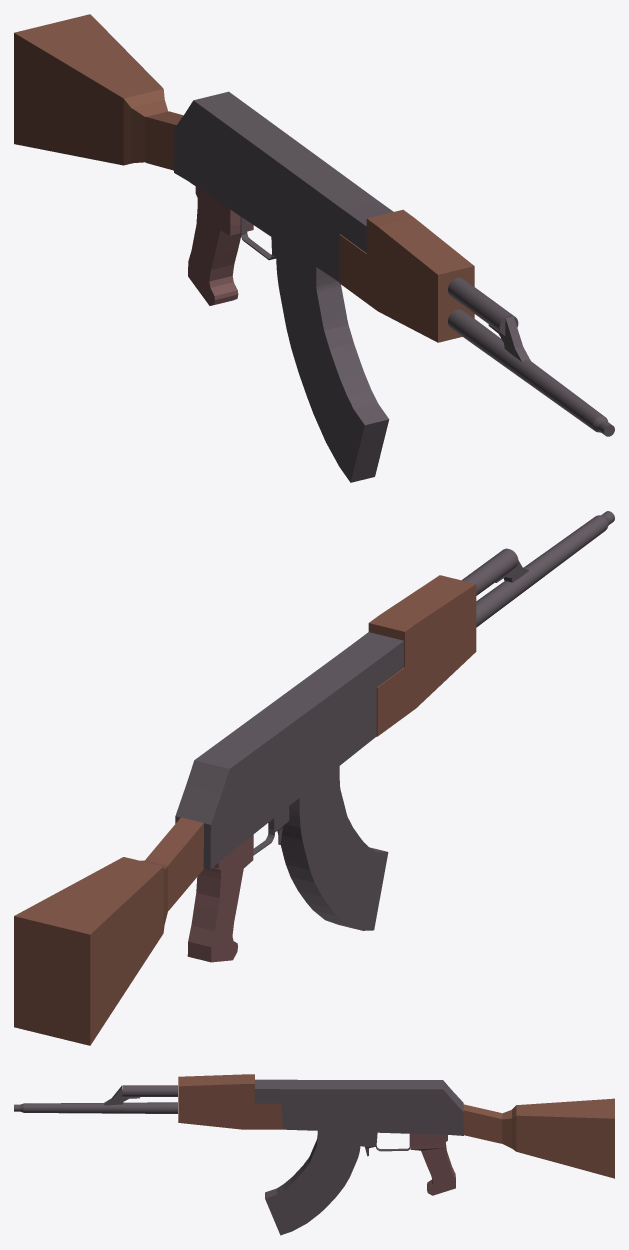
The picture shows the model from 3 angles, top to bottom: view 1: azimuth 30°, elevation 25°; view 2: azimuth 150°, elevation 25°; view 3: azimuth 270°, elevation 25°; orthographic projection. The views are drawn at different scales.
Visible parts, largest first — view 1: Cube.004, Cube.005, Cube, Cube.006, Cube.001, Cylinder.001, Cylinder, Cube.007; view 2: Cube.005, Cube.004, Cube, Cube.006, Cube.001, Cylinder.001, Cylinder; view 3: Cube.004, Cube.005, Cube, Cube.006, Cylinder.001, Cube.001, Cylinder, Cube.003, Cube.007.
Boxes of the visible parts, box(x1,y1,x2,y2) form: Cube.004: box(174, 91, 393, 281); Cube.005: box(14, 14, 183, 170); Cube: box(276, 240, 389, 482); Cube.006: box(339, 209, 474, 342); Cube.001: box(188, 187, 253, 305); Cylinder.001: box(448, 309, 614, 436); Cylinder: box(448, 277, 518, 335); Cube.007: box(488, 316, 530, 361); Cube.005: box(14, 817, 203, 1045); Cube.004: box(175, 632, 403, 869); Cube: box(277, 766, 388, 930); Cube.006: box(368, 575, 476, 736); Cube.001: box(187, 834, 253, 962); Cylinder.001: box(476, 511, 614, 627); Cylinder: box(462, 548, 518, 595); Cube.004: box(254, 1079, 463, 1135); Cube.005: box(463, 1098, 614, 1178); Cube: box(265, 1131, 360, 1235); Cube.006: box(178, 1074, 282, 1129); Cylinder.001: box(14, 1102, 177, 1113); Cube.001: box(410, 1133, 455, 1195); Cylinder: box(122, 1085, 177, 1096); Cube.003: box(360, 1132, 376, 1156); Cube.007: box(104, 1086, 140, 1105).
Bounding box in the file's own units: 71.88 × 255 × 909.
